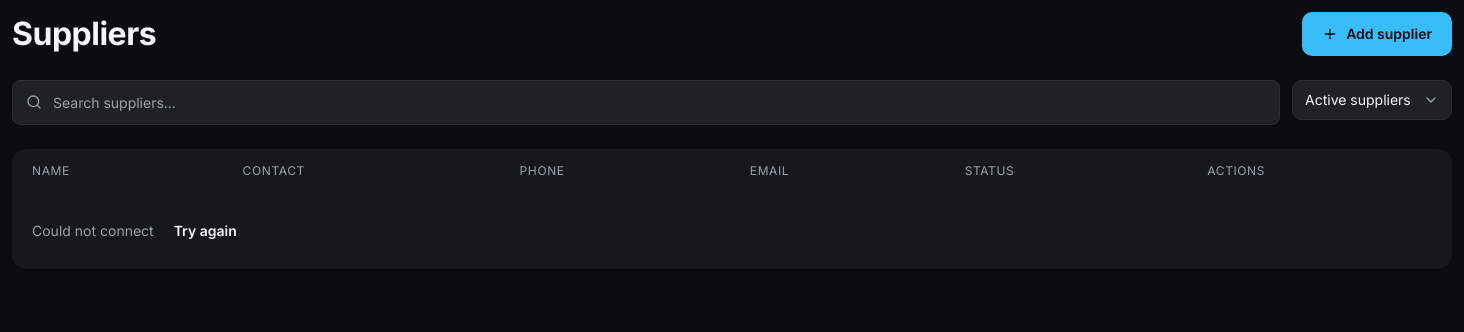
Test case: Suppliers › shows list errors and lets the user retry
expect the message "Could not connect" is shown: met, box [32,222,154,239]
Click the button "Try again" at (205, 231), box [154,209,257,253]
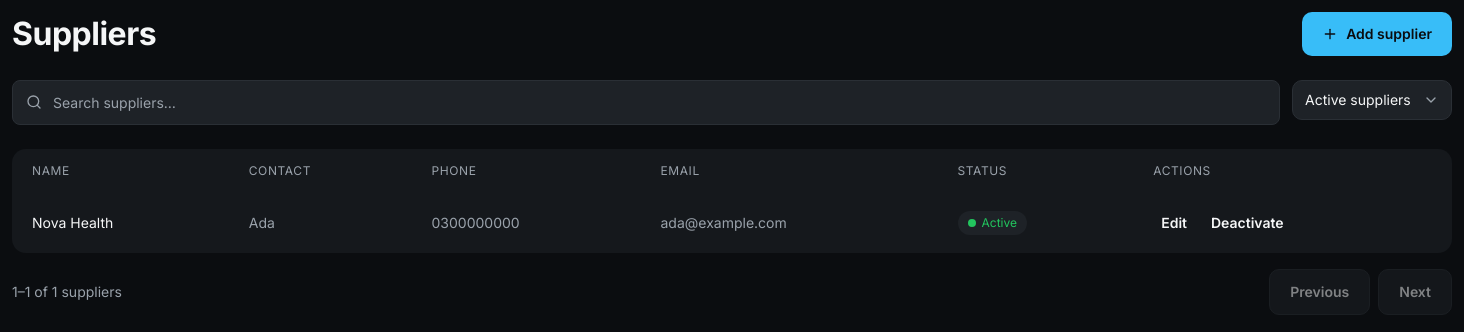
expect the text "Nova Health" is shown: met, box [12,193,229,253]
